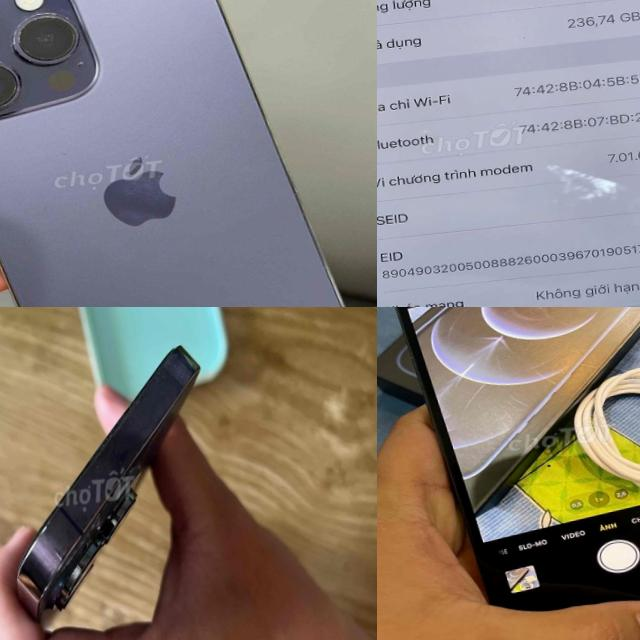gen_11: (377, 0, 640, 307)
gen_12_13: (377, 307, 640, 640)
gen_14: (0, 0, 377, 307), (0, 336, 234, 634)
